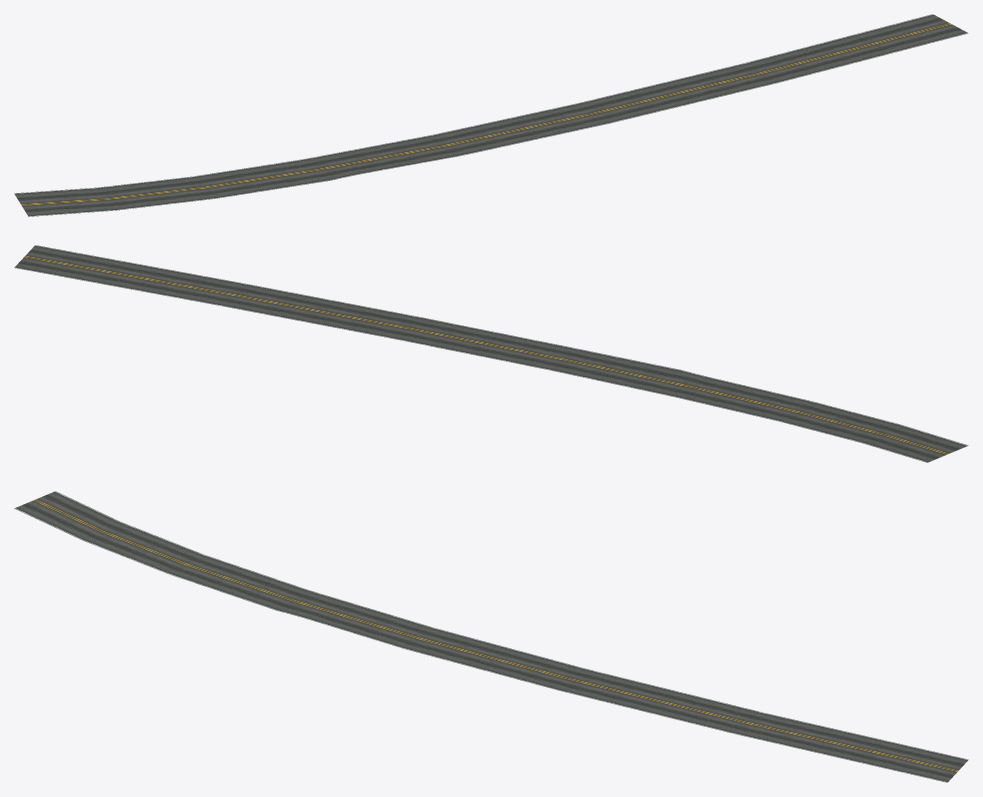
File: cuntwroad66.obj
3 views of the same model, one above another, from view 1: azimuth 30°, elevation 25°; view 2: azimuth 150°, elevation 25°; view 3: azimuth 330°, elevation 25° (orthographic).
Parts seen in each view (by area): view 1: cuntwroad66; view 2: cuntwroad66; view 3: cuntwroad66.
Boxes of the visible parts, box(x1,y1,x2,y2) form: cuntwroad66: box(14, 14, 968, 216); cuntwroad66: box(14, 245, 968, 462); cuntwroad66: box(14, 491, 968, 782).
Bounding box in the file's own units: 224 × 8.37 × 21.42.
Materials: 1 (1 with a texture image).
